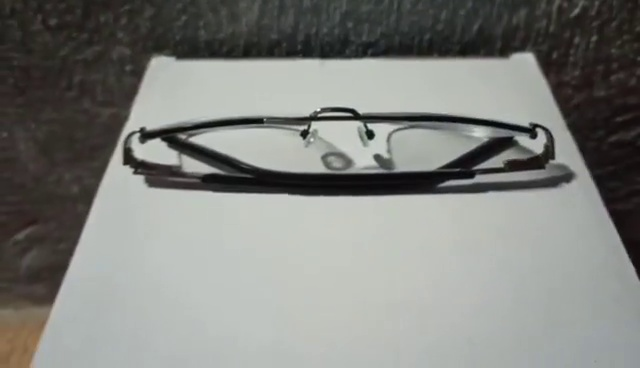glasses: (125, 108, 561, 196)
